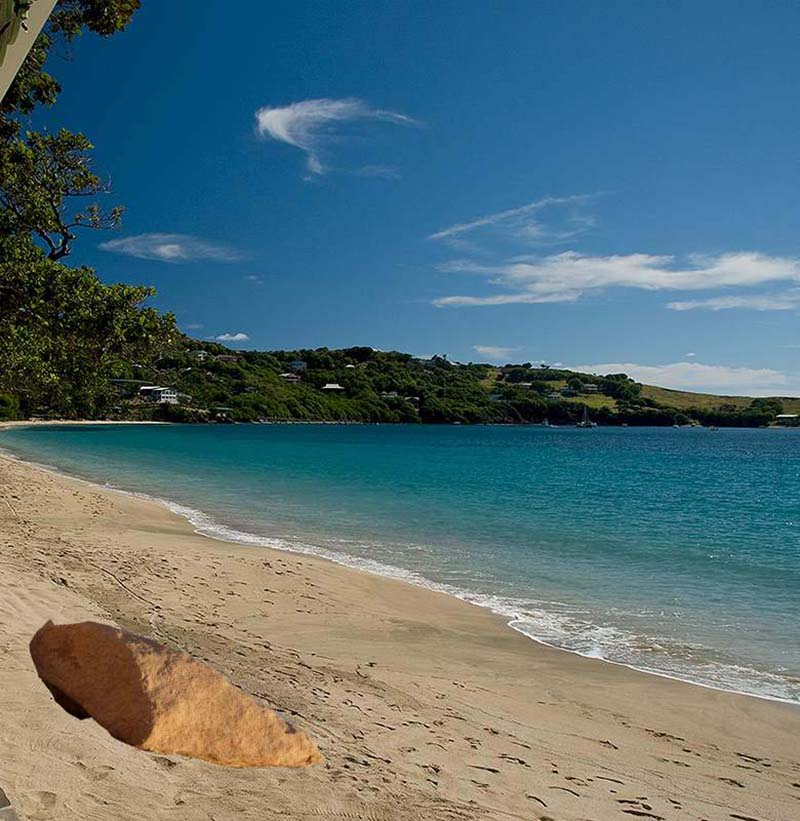Rocks: (21, 603, 338, 789)
